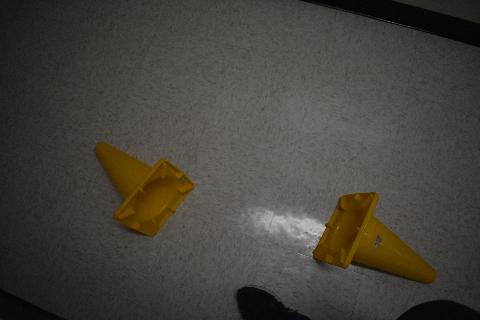cone: (311, 191, 437, 285), (94, 140, 196, 238)
